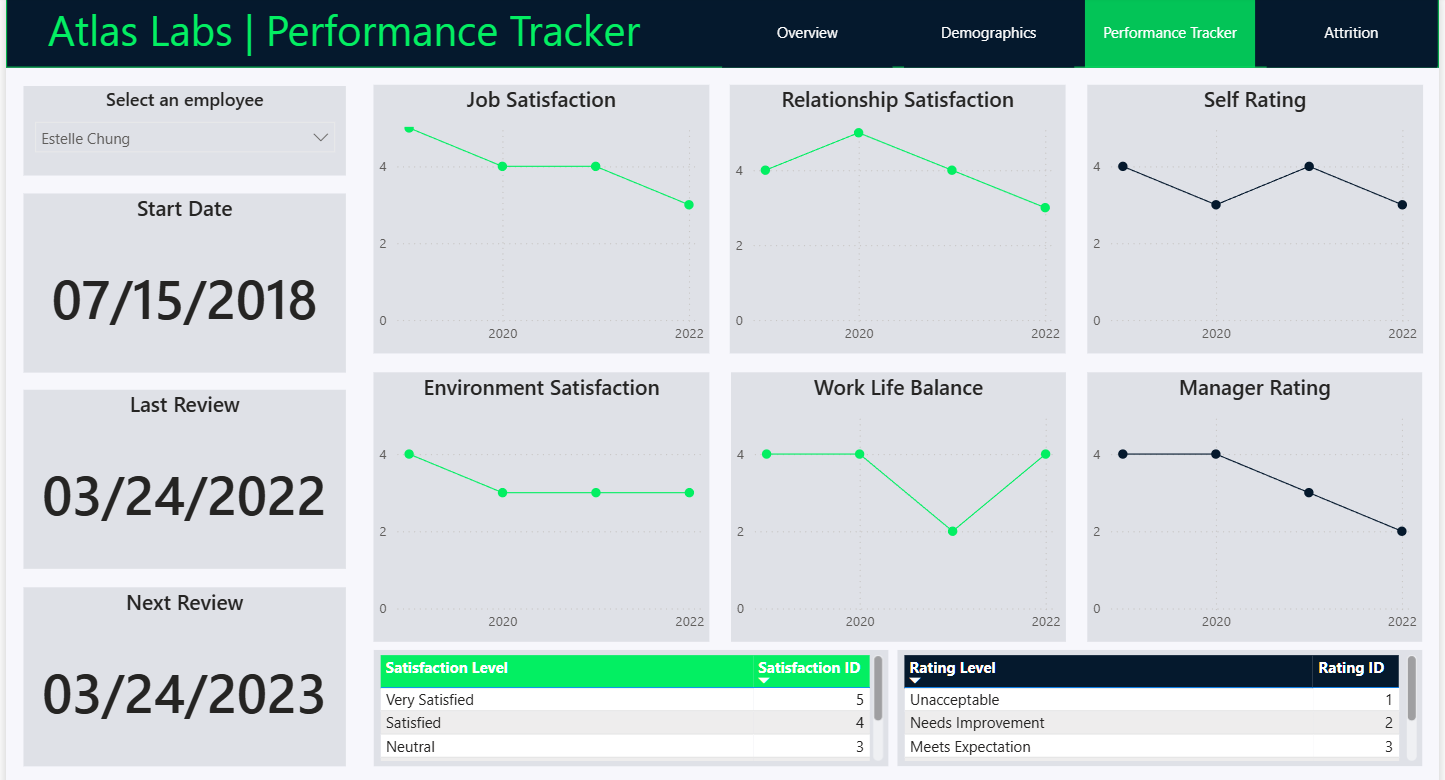

The dashboard page shown, as its layout file describes it:
{"tool":"powerbi","page":{"name":"Performance Tracker","canvas":[1280,720],"ordinal":2},"visuals":[{"type":"shape","box":[0,0,1280,64],"z":0},{"type":"textbox","box":[32,0,624,64],"z":1000},{"type":"pageNavigator","box":[640,0,640,64],"z":2000},{"type":"slicer","title":"Select an employee ","fields":{"Values":["DimEmployee.FullName"]},"box":[16,80,288,80],"z":3000},{"type":"card","title":"Start Date","fields":{"Values":["Min(DimEmployee.HireDate)"]},"box":[16,176,288,160],"z":4000},{"type":"card","title":"Last Review","fields":{"Values":["_Measures.LastReviewDate"]},"box":[16,352,288,160],"z":5000},{"type":"card","title":"Next Review","fields":{"Values":["_Measures.NextReviewDate"]},"box":[16,528,288,160],"z":6000},{"type":"lineChart","title":"Job Satisfaction","fields":{"Y":["_Measures.JobSatisfaction"],"Category":["DimDate.Year"]},"box":[328.3,79.8,300,240.3],"z":7000},{"type":"lineChart","title":"Relationship Satisfaction","fields":{"Y":["_Measures.RelationshipSatisfaction"],"Category":["DimDate.Year"]},"box":[646.9,79.8,300,240.3],"z":8000},{"type":"lineChart","title":"Self Rating","fields":{"Y":["_Measures.SelfRating"],"Category":["DimDate.Year"]},"box":[965.5,79.8,299.7,240.3],"z":9000},{"type":"lineChart","title":"Work Life Balance","fields":{"Y":["_Measures.WorkLifeBalance"],"Category":["DimDate.Year"]},"box":[647.6,336.1,299.3,241.2],"z":10000},{"type":"lineChart","title":"Manager Rating","fields":{"Y":["_Measures.ManagerRating"],"Category":["DimDate.Year"]},"box":[965.9,336.1,299.3,241.2],"z":11000},{"type":"lineChart","title":"Environment Satisfaction","fields":{"Y":["_Measures.EnvironmentSatisfaction"],"Category":["DimDate.Year"]},"box":[328.3,336.1,300.4,241.2],"z":12000},{"type":"tableEx","fields":{"Values":["DimRatingLevel.RatingLevel","DimRatingLevel.RatingID"]},"box":[796.2,584,469,103.8],"z":13000},{"type":"tableEx","fields":{"Values":["DimSatisfiedLevel.SatisfactionLevel","DimSatisfiedLevel.SatisfactionID"]},"box":[328.3,584,460.1,103.8],"z":14000}]}

Visuals, with their boxes on the page's 1280x720 design canvas (x1, y1, x2, y2). These are canvas units, not pixel positions in the 1445x780 screenshot, which may show the page scaled, cropped or inside an application window:
shape: box=[0, 0, 1280, 64]
textbox: box=[32, 0, 656, 64]
pageNavigator: box=[640, 0, 1280, 64]
"Select an employee " slicer: box=[16, 80, 304, 160]
"Start Date" card: box=[16, 176, 304, 336]
"Last Review" card: box=[16, 352, 304, 512]
"Next Review" card: box=[16, 528, 304, 688]
"Job Satisfaction" lineChart: box=[328, 80, 628, 320]
"Relationship Satisfaction" lineChart: box=[647, 80, 947, 320]
"Self Rating" lineChart: box=[966, 80, 1265, 320]
"Work Life Balance" lineChart: box=[648, 336, 947, 577]
"Manager Rating" lineChart: box=[966, 336, 1265, 577]
"Environment Satisfaction" lineChart: box=[328, 336, 629, 577]
tableEx - DimRatingLevel.RatingLevel x DimRatingLevel.RatingID: box=[796, 584, 1265, 688]
tableEx - DimSatisfiedLevel.SatisfactionLevel x DimSatisfiedLevel.SatisfactionID: box=[328, 584, 788, 688]
